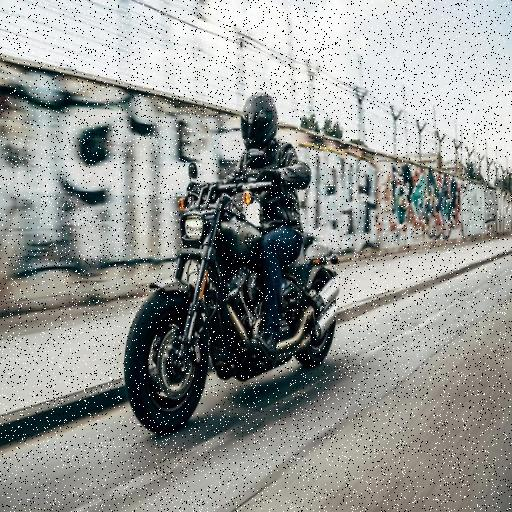Helmet: (233, 84, 283, 153)
Motor: (118, 172, 352, 428)
